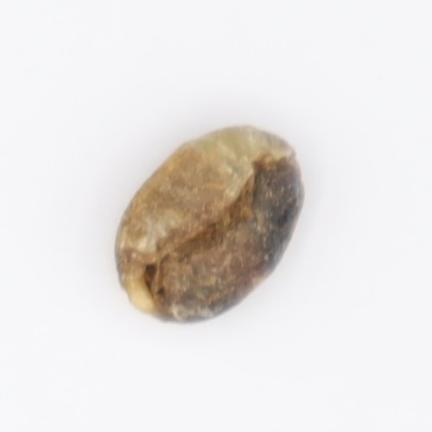partial-black: (116, 126, 303, 321)
